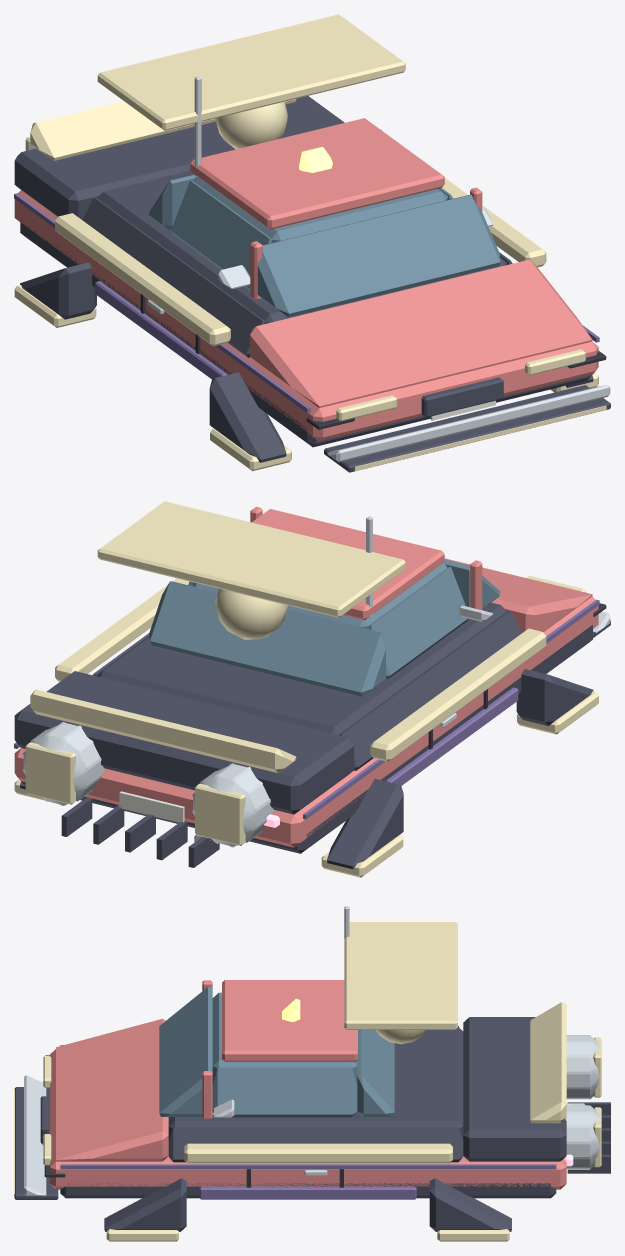
The model's file is telemetry_tide.fbx.
3 renders of one model, top to bottom at view 1: azimuth 30°, elevation 25°; view 2: azimuth 150°, elevation 25°; view 3: azimuth 270°, elevation 25°, orthographic. The views are drawn at different scales.
Parts seen in each view (by area): view 1: Body, Trim, Light, Glass, Accent, Accent3, Accent2, Light2, Trim2, Light4; view 2: Trim, Light, Glass, Body, Accent3, Accent, Accent2, Accent4; view 3: Trim, Body, Light, Glass, Accent, Accent2, Accent3, Light2.
Boxes of the visible parts, left/top/right/bottom form: Body: left=14, top=118, right=598, bottom=441; Trim: left=14, top=96, right=610, bottom=472; Light: left=14, top=14, right=606, bottom=471; Glass: left=149, top=129, right=500, bottom=317; Accent: left=28, top=76, right=610, bottom=462; Accent3: left=30, top=99, right=296, bottom=160; Accent2: left=14, top=193, right=599, bottom=412; Light2: left=336, top=349, right=585, bottom=421; Trim2: left=140, top=294, right=606, bottom=429; Light4: left=299, top=147, right=332, bottom=172; Trim: left=14, top=602, right=610, bottom=869; Light: left=14, top=501, right=598, bottom=877; Glass: left=149, top=514, right=500, bottom=696; Body: left=14, top=506, right=598, bottom=847; Accent3: left=30, top=689, right=296, bottom=773; Accent: left=23, top=516, right=610, bottom=847; Accent2: left=14, top=599, right=599, bottom=819; Accent4: left=119, top=791, right=184, bottom=822; Trim: left=14, top=1017, right=610, bottom=1231; Body: left=50, top=980, right=566, bottom=1189; Light: left=14, top=922, right=601, bottom=1241; Glass: left=159, top=987, right=394, bottom=1117; Accent: left=24, top=906, right=599, bottom=1196; Accent2: left=60, top=1045, right=556, bottom=1199; Accent3: left=212, top=1002, right=566, bottom=1123; Light2: left=43, top=1056, right=51, bottom=1165.
Bounding box in the file's own units: 3.3 × 2.44 × 5.78.
